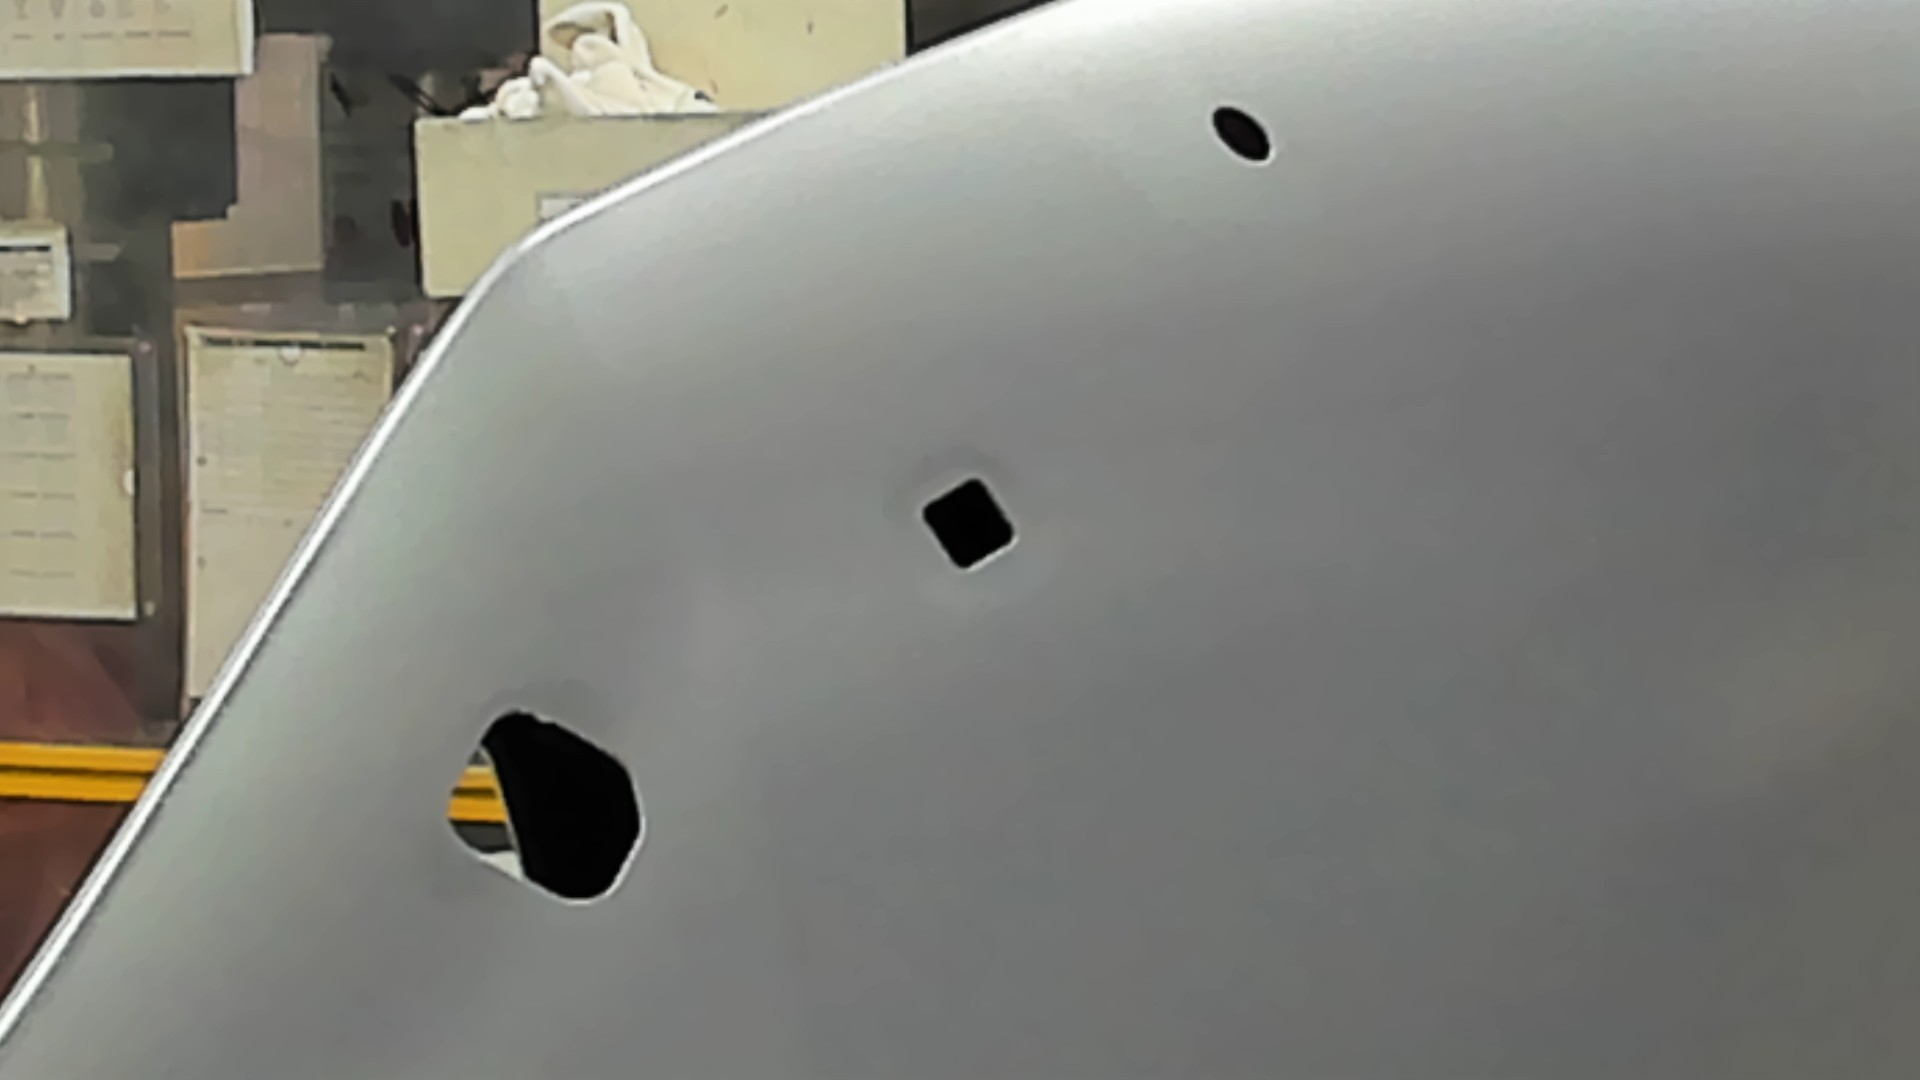chico: (1211, 100, 1276, 164)
grande: (443, 707, 647, 909)
mediano: (918, 473, 1022, 576)
